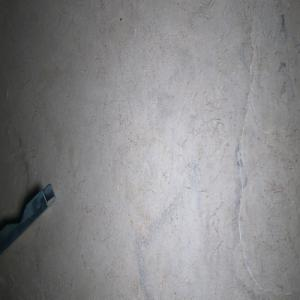ClampPart: (0, 181, 56, 252)
